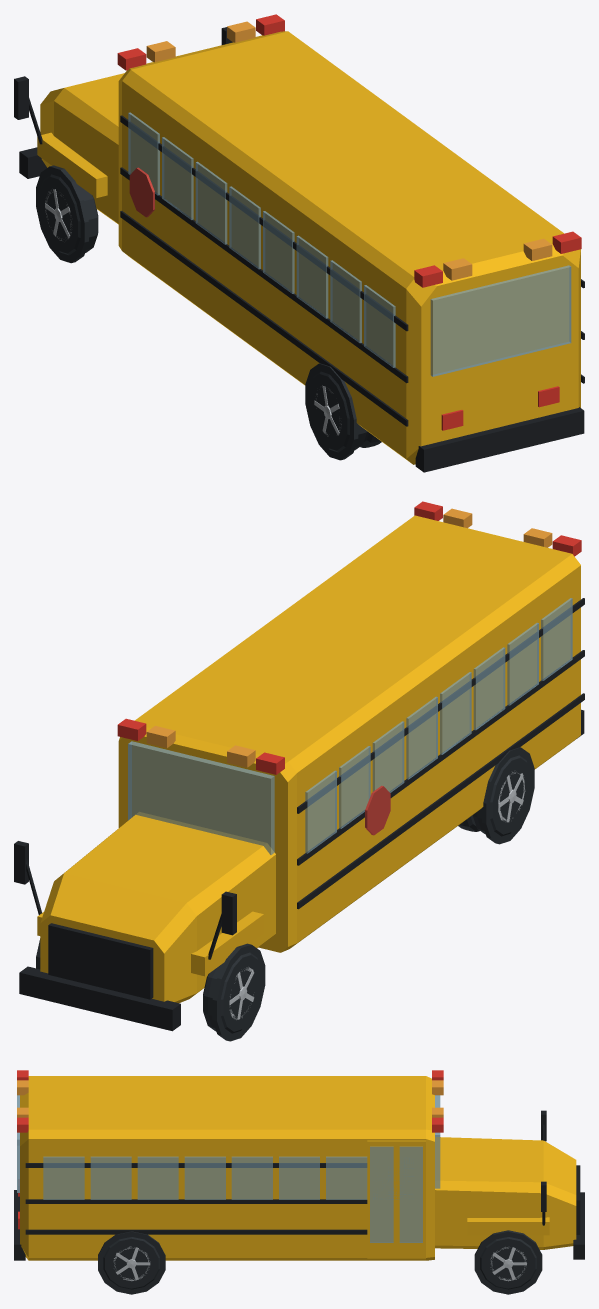
The model's file is LAND_02.obj.
3 renders of one model, top to bottom at view 1: azimuth 30°, elevation 25°; view 2: azimuth 150°, elevation 25°; view 3: azimuth 270°, elevation 25°, orthographic. The views are drawn at different scales.
Parts seen in each view (by area): view 1: body, windows, rub_rails, hood, bumpers, warning_lights, wheel_F_L, wheel_R_L, fenders, wheel_F_L_arch, wheel_R_L_arch, stop_sign (+2 smaller); view 2: body, windows, hood, rub_rails, grille, bumpers, warning_lights, wheel_F_L, wheel_R_L, fenders, mirrors, wheel_F_L_arch (+2 smaller); view 3: body, windows, hood, door, rub_rails, wheel_R_R, wheel_F_R, fenders, warning_lights, wheel_F_R_arch, wheel_R_R_arch, bumpers (+2 smaller).
Boxes of the visible parts, <box> form: body: <box>118,31,580,464</box>; windows: <box>128,112,571,376</box>; rub_rails: <box>120,115,584,426</box>; hood: <box>40,73,124,224</box>; bumpers: <box>19,147,584,472</box>; warning_lights: <box>117,14,581,287</box>; wheel_F_L: <box>39,174,98,255</box>; wheel_R_L: <box>309,371,381,452</box>; fenders: <box>37,132,107,197</box>; wheel_F_L_arch: <box>36,165,88,263</box>; wheel_R_L_arch: <box>305,363,358,460</box>; stop_sign: <box>129,167,154,217</box>; body: <box>118,515,580,952</box>; windows: <box>128,598,572,854</box>; hood: <box>40,812,275,1003</box>; rub_rails: <box>297,598,584,909</box>; grille: <box>48,923,153,999</box>; bumpers: <box>19,709,584,1031</box>; warning_lights: <box>117,501,581,774</box>; wheel_F_L: <box>203,952,261,1033</box>; wheel_R_L: <box>458,755,530,836</box>; fenders: <box>37,911,263,976</box>; mirrors: <box>14,841,236,959</box>; wheel_F_L_arch: <box>212,943,265,1041</box>; body: <box>20,1076,434,1260</box>; windows: <box>17,1095,440,1199</box>; hood: <box>435,1137,576,1249</box>; door: <box>367,1140,425,1258</box>; rub_rails: <box>25,1163,367,1234</box>; wheel_R_R: <box>103,1237,159,1289</box>; wheel_F_R: <box>480,1237,536,1289</box>; fenders: <box>467,1217,549,1235</box>; warning_lights: <box>17,1070,443,1132</box>; wheel_F_R_arch: <box>474,1230,542,1294</box>; wheel_R_R_arch: <box>98,1231,165,1294</box>; bumpers: <box>14,1190,584,1260</box>.
Size of the model in its own units: 3.13 by 3.12 by 9.7.
